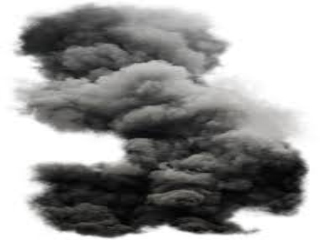smoke: (28, 10, 296, 231)
